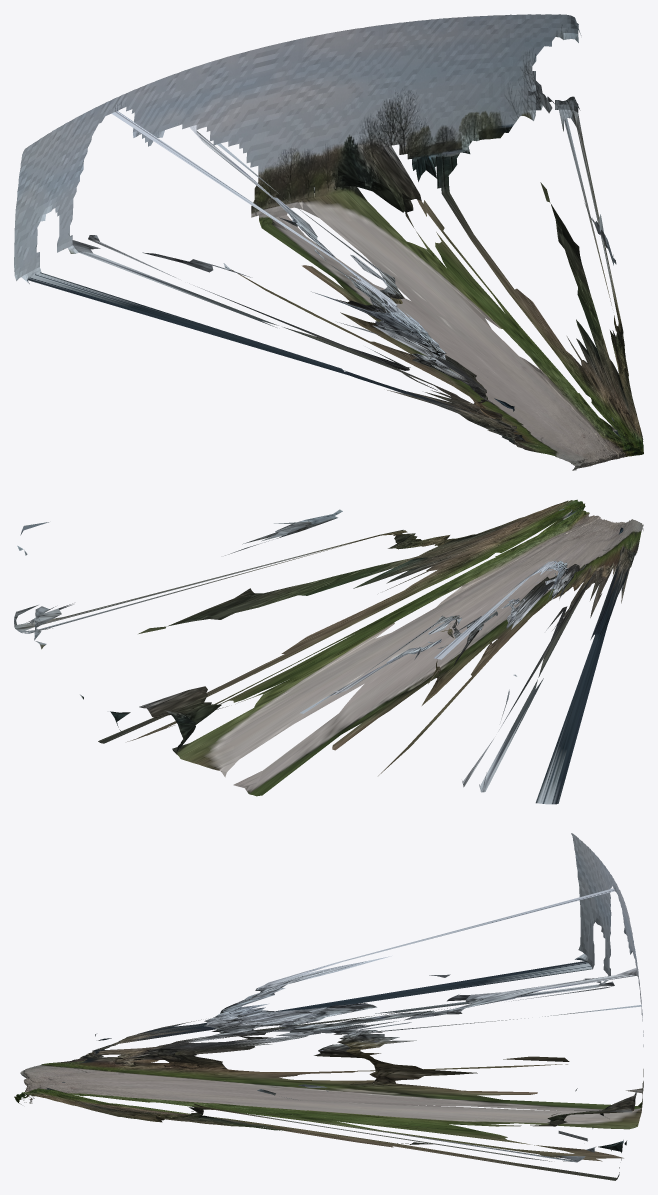
3 renders of one model, top to bottom at view 1: azimuth 30°, elevation 25°; view 2: azimuth 150°, elevation 25°; view 3: azimuth 270°, elevation 25°, orthographic. The views are drawn at different scales.
Visible parts, largest first — view 1: defaultobject; view 2: defaultobject; view 3: defaultobject.
Part boxes in pixels (x1=…): defaultobject: x1=14, y1=14, x2=643, y2=470; defaultobject: x1=14, y1=499, x2=643, y2=804; defaultobject: x1=14, y1=833, x2=643, y2=1180.
Size of the model in its own units: 40.91 by 12.85 by 44.73.
Materials: 1 (1 with a texture image).
